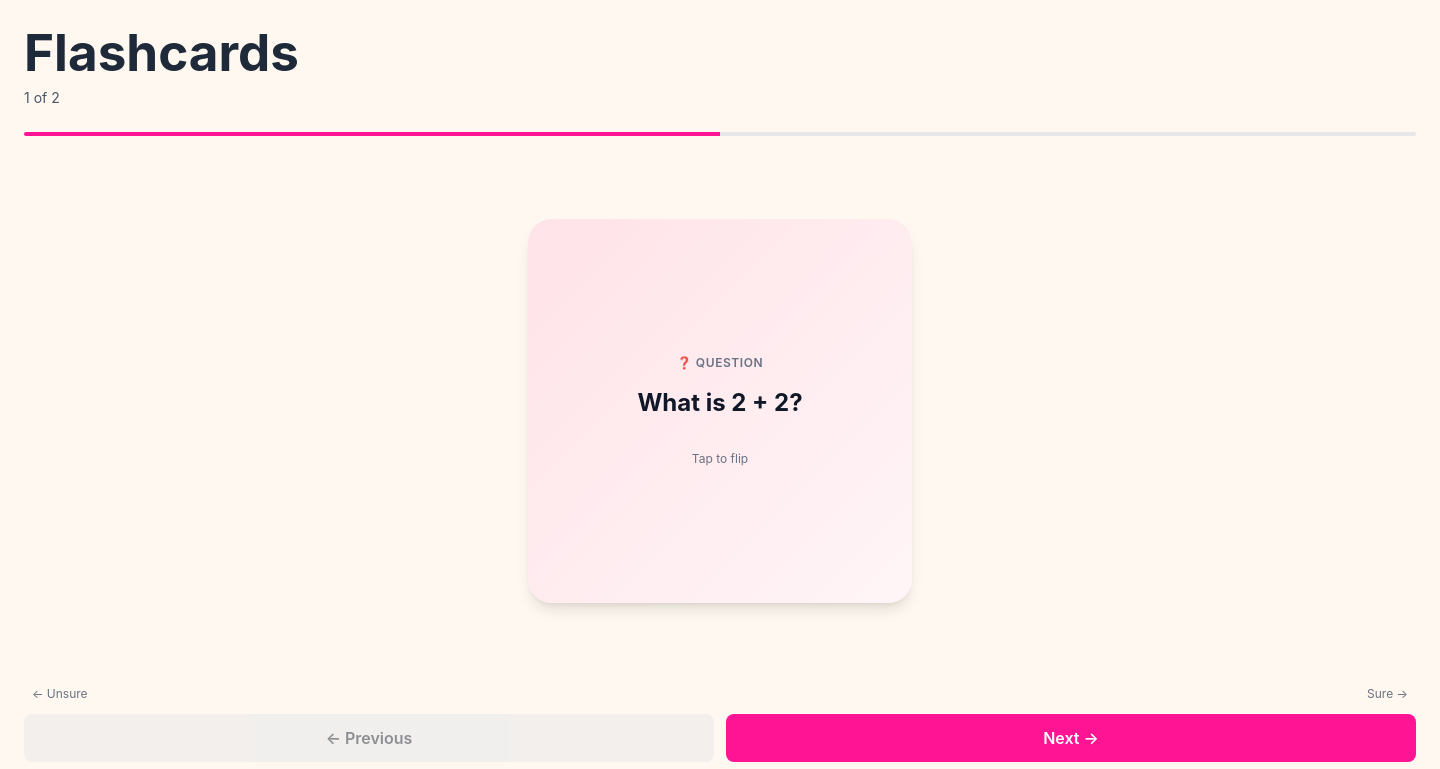
Test: FlashcardDeck › Test 1: Renders 4 Quality buttons › should render all 4 Quality buttons labeled "Again", "Hard", "Good", "Easy"
Flip the card first - click on the card itself
Click the text "What is 2 + 2?" at (720, 403), box x1=637 y1=387 x2=803 y2=419
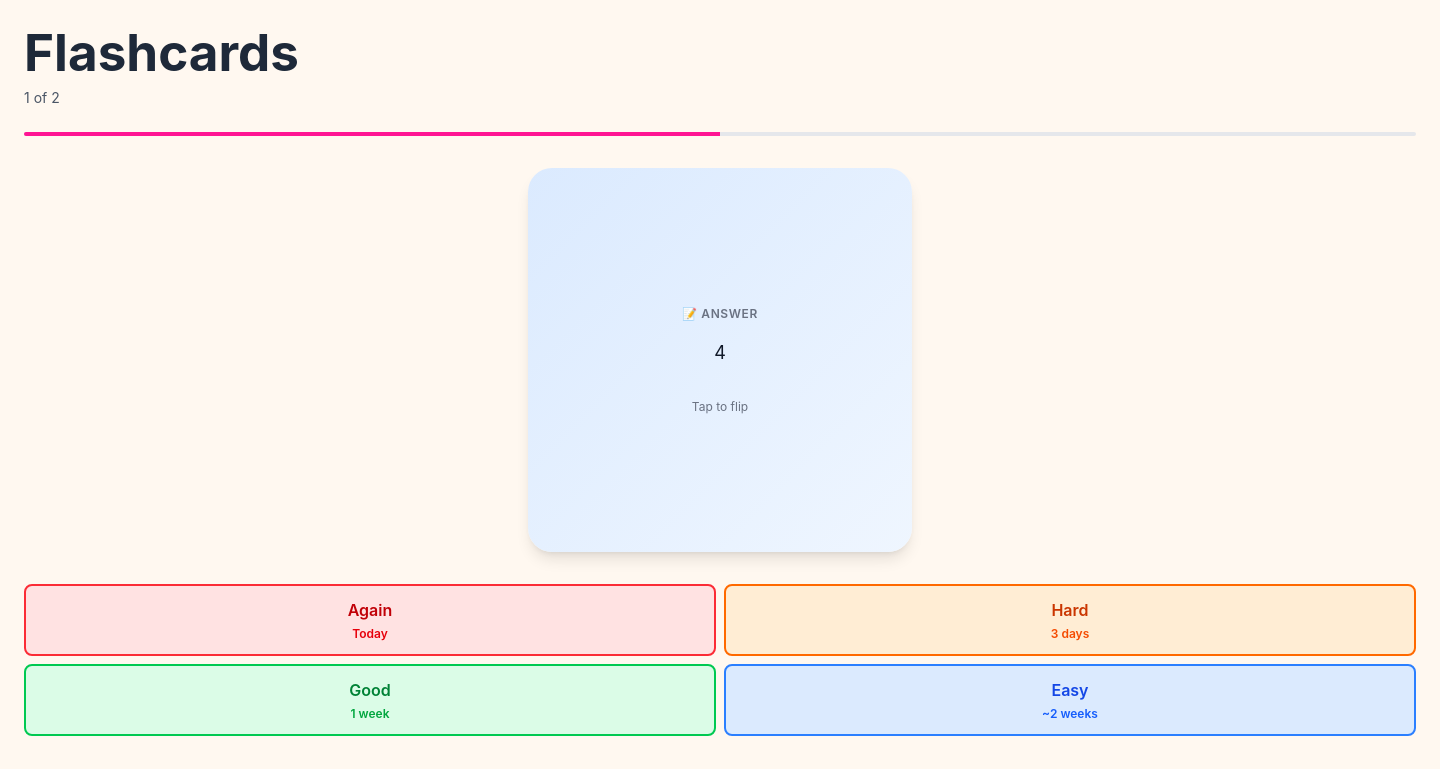
expect the button with test id "grade-again-button" is shown: met, box x1=24 y1=584 x2=716 y2=656
expect the button with test id "grade-hard-button" is shown: met, box x1=724 y1=584 x2=1416 y2=656
expect the button with test id "grade-good-button" is shown: met, box x1=24 y1=664 x2=716 y2=736
